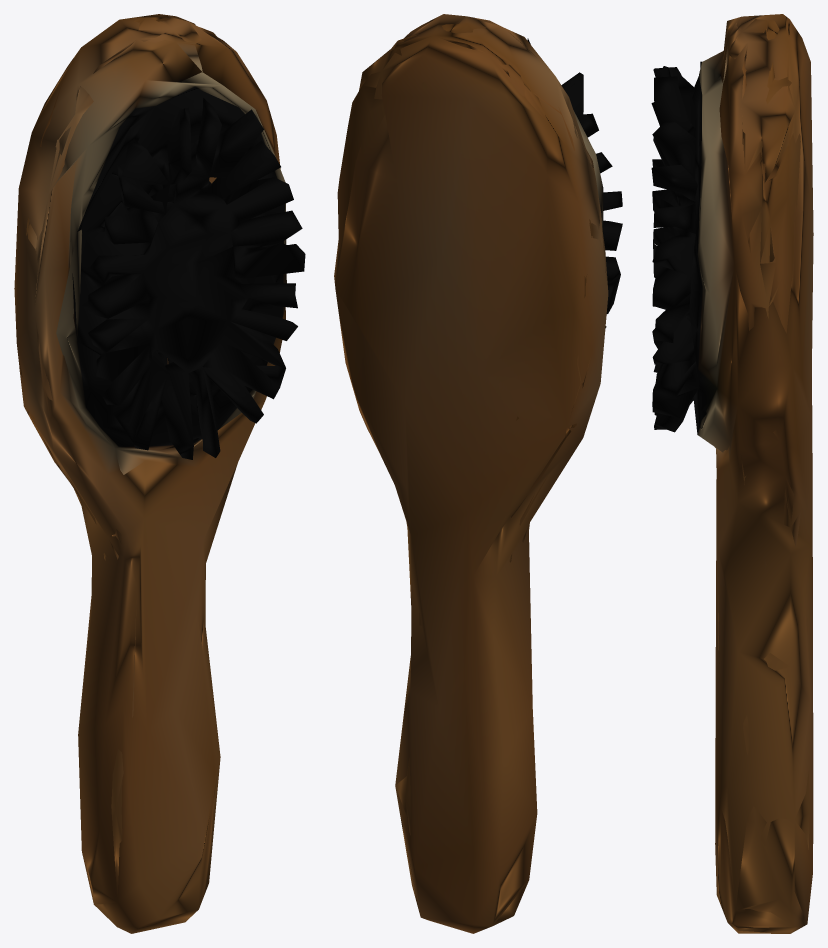
Rendered from gen3d-hairbrush-lod0.glb.
3 views of the same model, side by side, from view 1: azimuth 30°, elevation 25°; view 2: azimuth 150°, elevation 25°; view 3: azimuth 270°, elevation 25° (orthographic).
Visible parts, largest first — view 1: part_0; view 2: part_0; view 3: part_0.
Part boxes in pixels (x1,y1,x2,y2): part_0: (14,14,305,933); part_0: (334,14,622,933); part_0: (651,14,813,933).
Size of the model in its own units: 0.2987 by 0.9968 by 0.1624.
